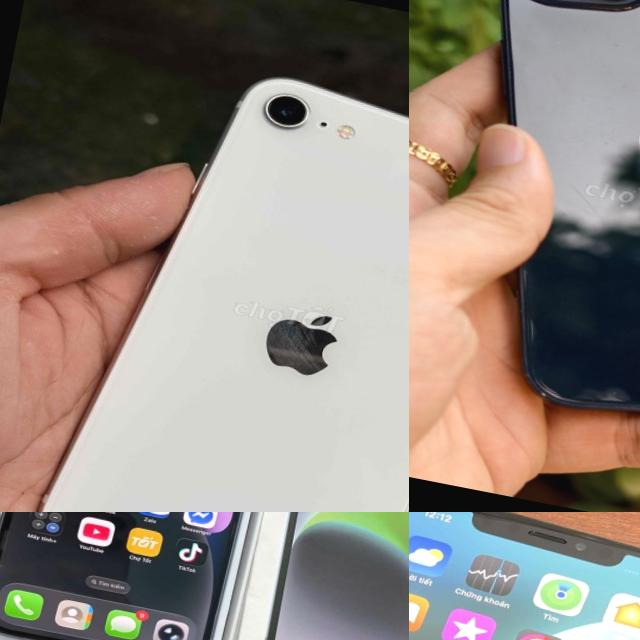gen_12_13: (411, 0, 640, 462)
gen_14: (0, 512, 296, 640)
gen_7_8: (14, 40, 409, 512)
gen_x_xs: (409, 512, 640, 640)
